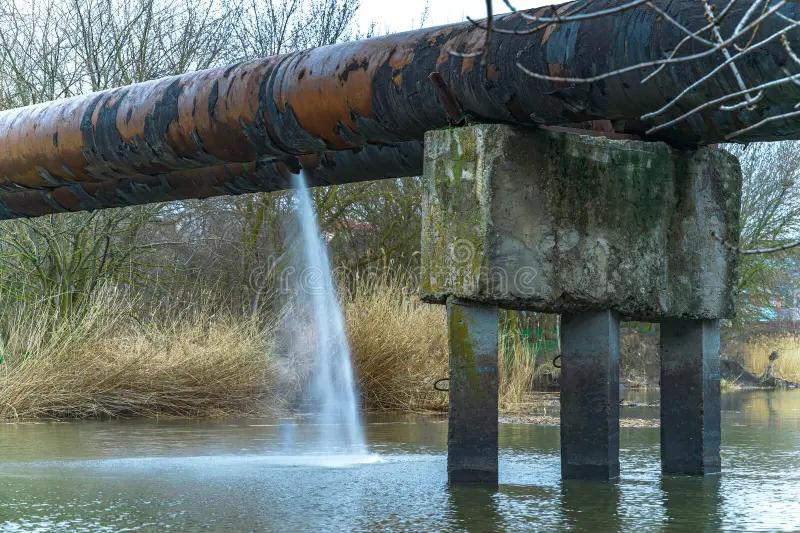pipe burst: (279, 155, 368, 452)
